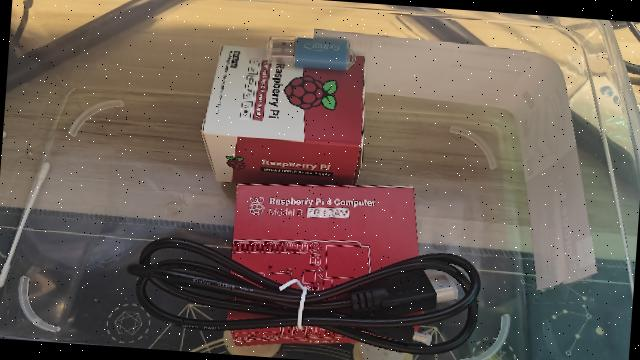charger_box: (191, 39, 374, 238)
hdmi_cable: (110, 230, 494, 360)
rpi_box: (219, 176, 426, 312)
sdcard_reader: (261, 28, 366, 79)
